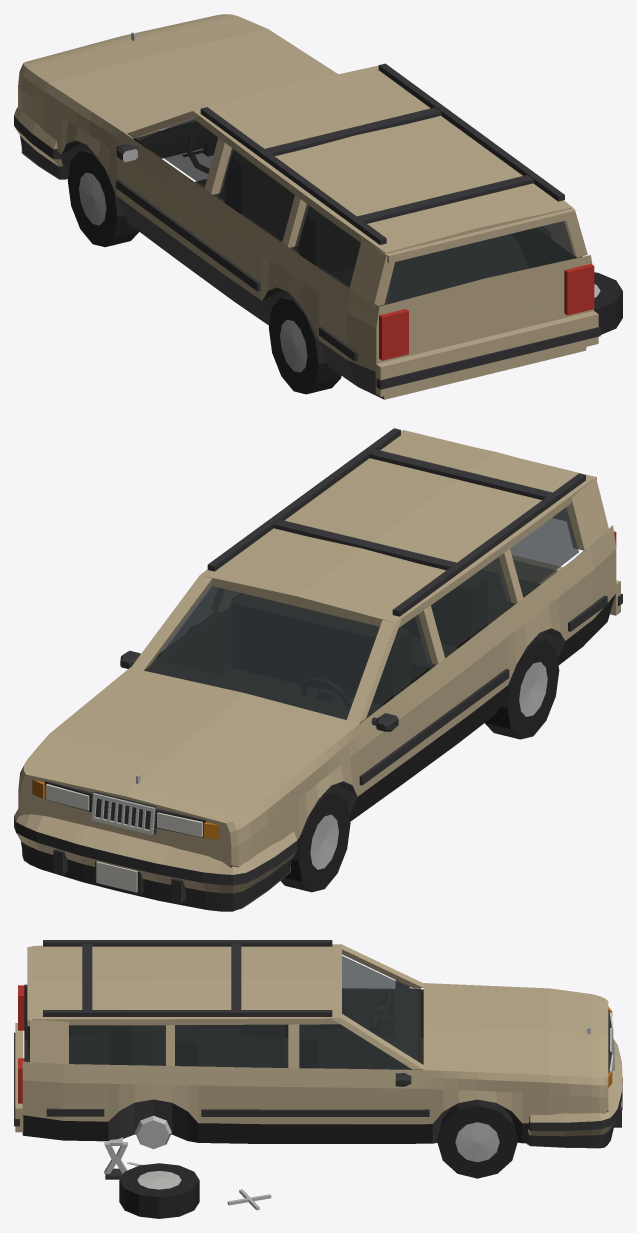
File: broken-car.glb
3 views of the same model, one above another, from view 1: azimuth 30°, elevation 25°; view 2: azimuth 150°, elevation 25°; view 3: azimuth 270°, elevation 25° (orthographic). The views are drawn at different scales.
Visible parts, largest first — view 1: BrokenCar, BrokenCarGlass; view 2: BrokenCar, BrokenCarGlass; view 3: BrokenCar, BrokenCarGlass.
Part boxes in pixels (<box>): BrokenCar: <box>14,14,622,399</box>; BrokenCarGlass: <box>139,118,575,304</box>; BrokenCar: <box>14,428,622,911</box>; BrokenCarGlass: <box>148,507,578,719</box>; BrokenCar: <box>14,940,622,1218</box>; BrokenCarGlass: <box>28,955,417,1069</box>.
Bounding box in the file's own units: 2.69 × 1.46 × 5.07.
